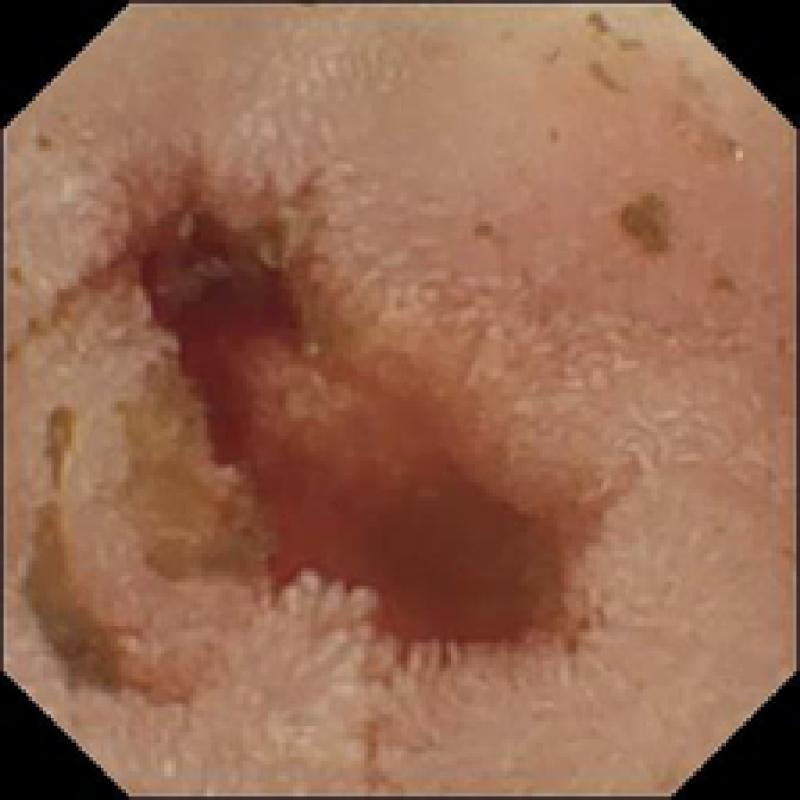bleeding: (146, 200, 300, 461)
